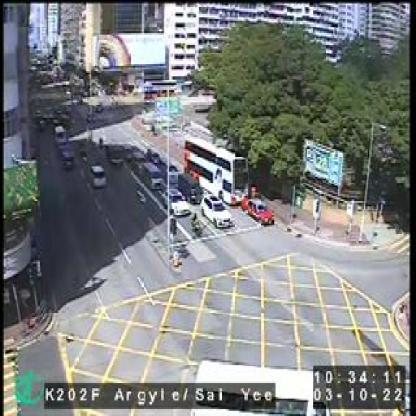Bus: (182, 135, 247, 201)
Car: (240, 196, 274, 225), (202, 194, 233, 225), (161, 187, 190, 212), (178, 172, 199, 201), (155, 153, 177, 180), (140, 161, 160, 187), (57, 144, 74, 168), (90, 166, 108, 186), (131, 150, 143, 172), (55, 125, 65, 140)
